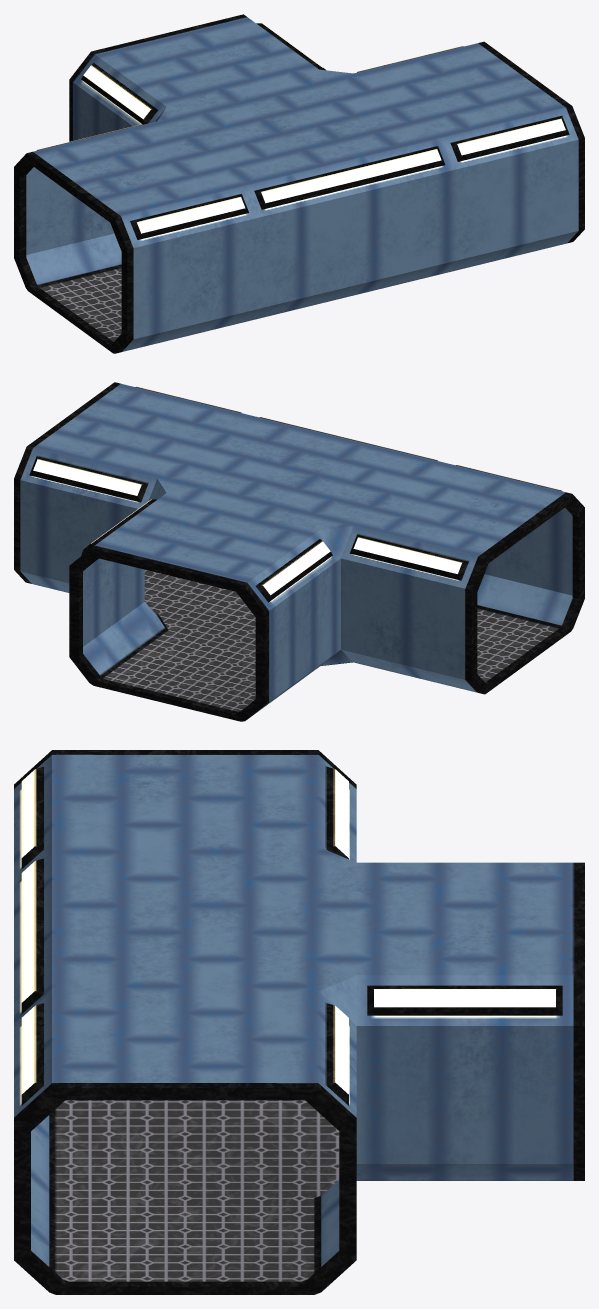
File: Hall - Junction_Light.gltf
The picture shows the model from 3 angles, top to bottom: view 1: azimuth 30°, elevation 25°; view 2: azimuth 150°, elevation 25°; view 3: azimuth 270°, elevation 25°; orthographic projection. The views are drawn at different scales.
Visible parts, largest first — view 1: Junction_L; view 2: Junction_L; view 3: Junction_L.
Boxes of the visible parts, left/top/right/bottom form: Junction_L: left=14, top=14, right=584, bottom=353; Junction_L: left=14, top=382, right=584, bottom=721; Junction_L: left=14, top=750, right=584, bottom=1294.
Bounding box in the file's own units: 7 × 2 × 5.
1 material, 1 textured.
